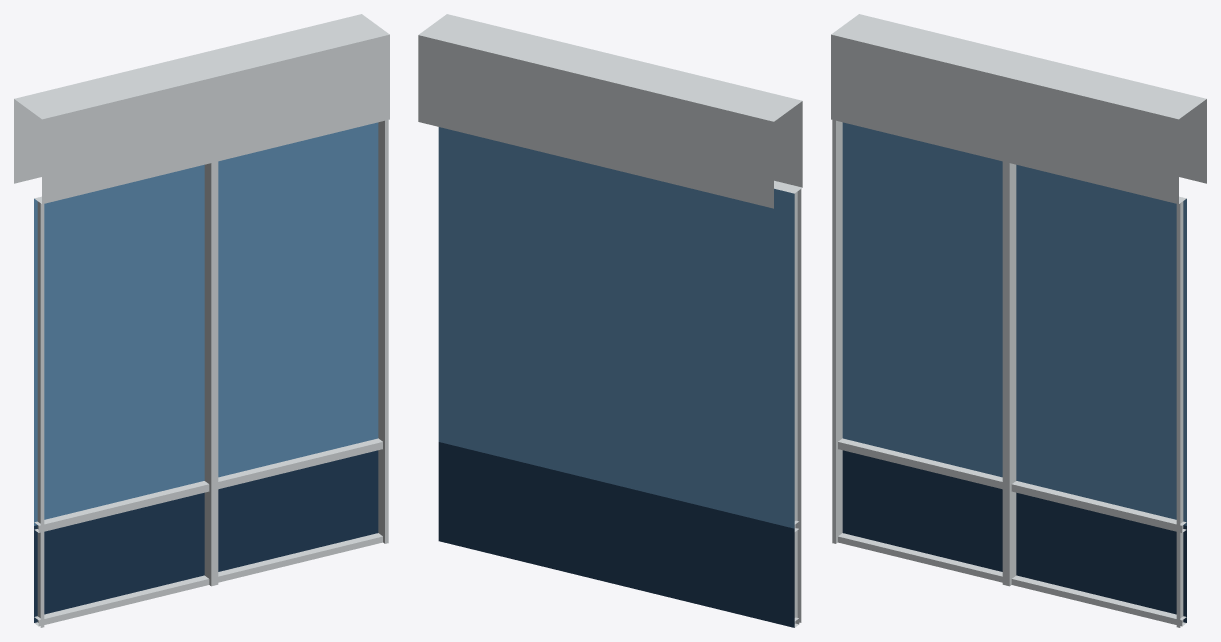
Rendered from top-w1.fbx.
3 views of the same model, side by side, from view 1: azimuth 30°, elevation 25°; view 2: azimuth 150°, elevation 25°; view 3: azimuth 330°, elevation 25° (orthographic). The views are drawn at different scales.
Visible parts, largest first — view 1: a2002/200/top-w1; view 2: a2002/200/top-w1; view 3: a2002/200/top-w1.
Part boxes in pixels (left/top/right/bottom): a2002/200/top-w1: left=14, top=14, right=389, bottom=627; a2002/200/top-w1: left=418, top=14, right=802, bottom=627; a2002/200/top-w1: left=831, top=14, right=1206, bottom=627.
Size of the model in its own units: 3 by 4.2 by 0.42.
